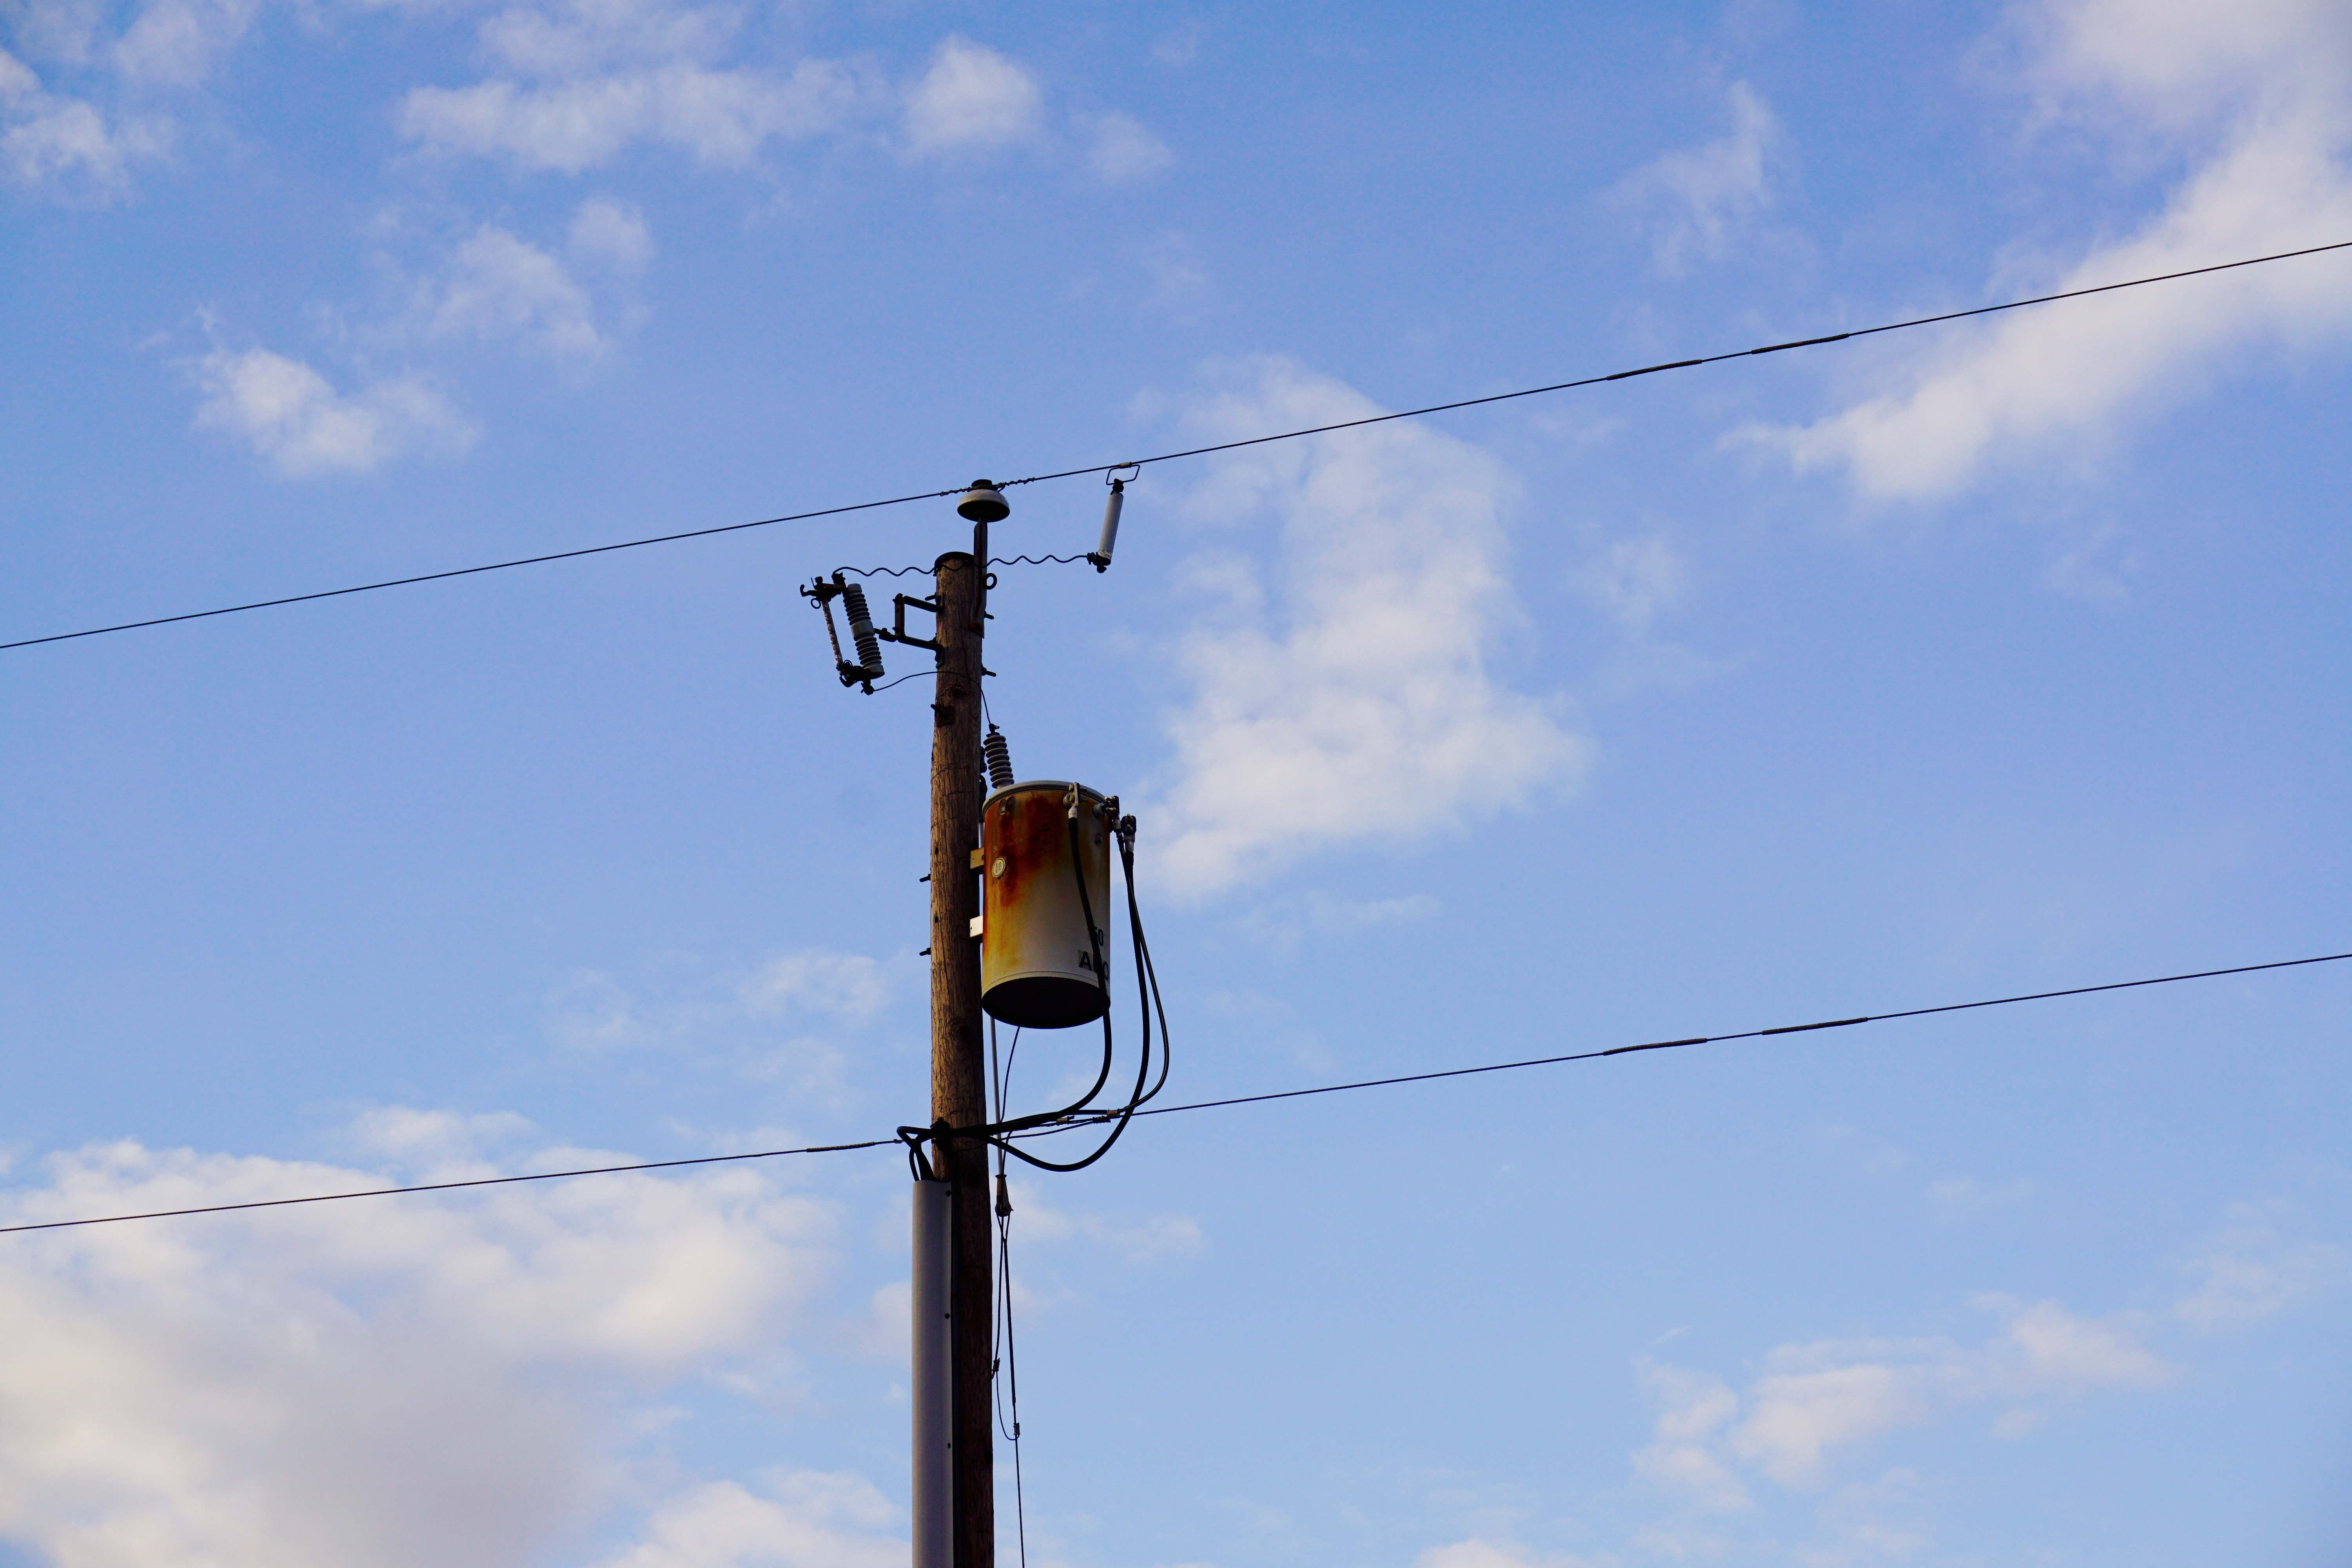utility_pole: (749, 441, 1197, 1223)
